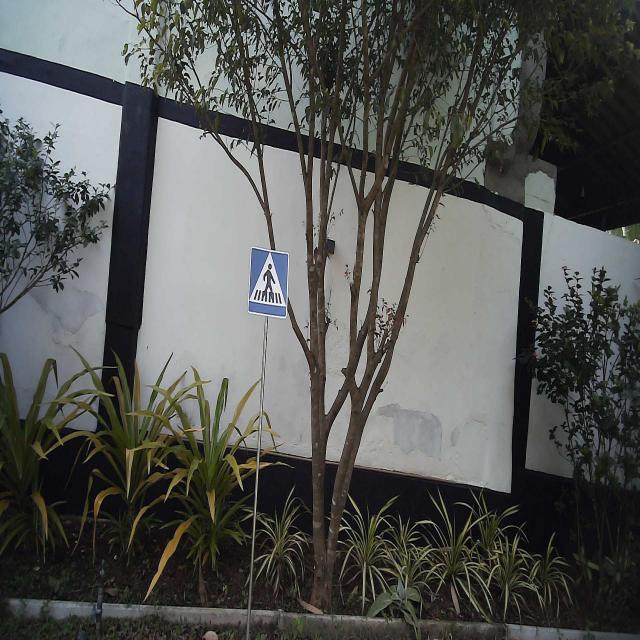crosswalk_sign: (247, 244, 291, 322)
